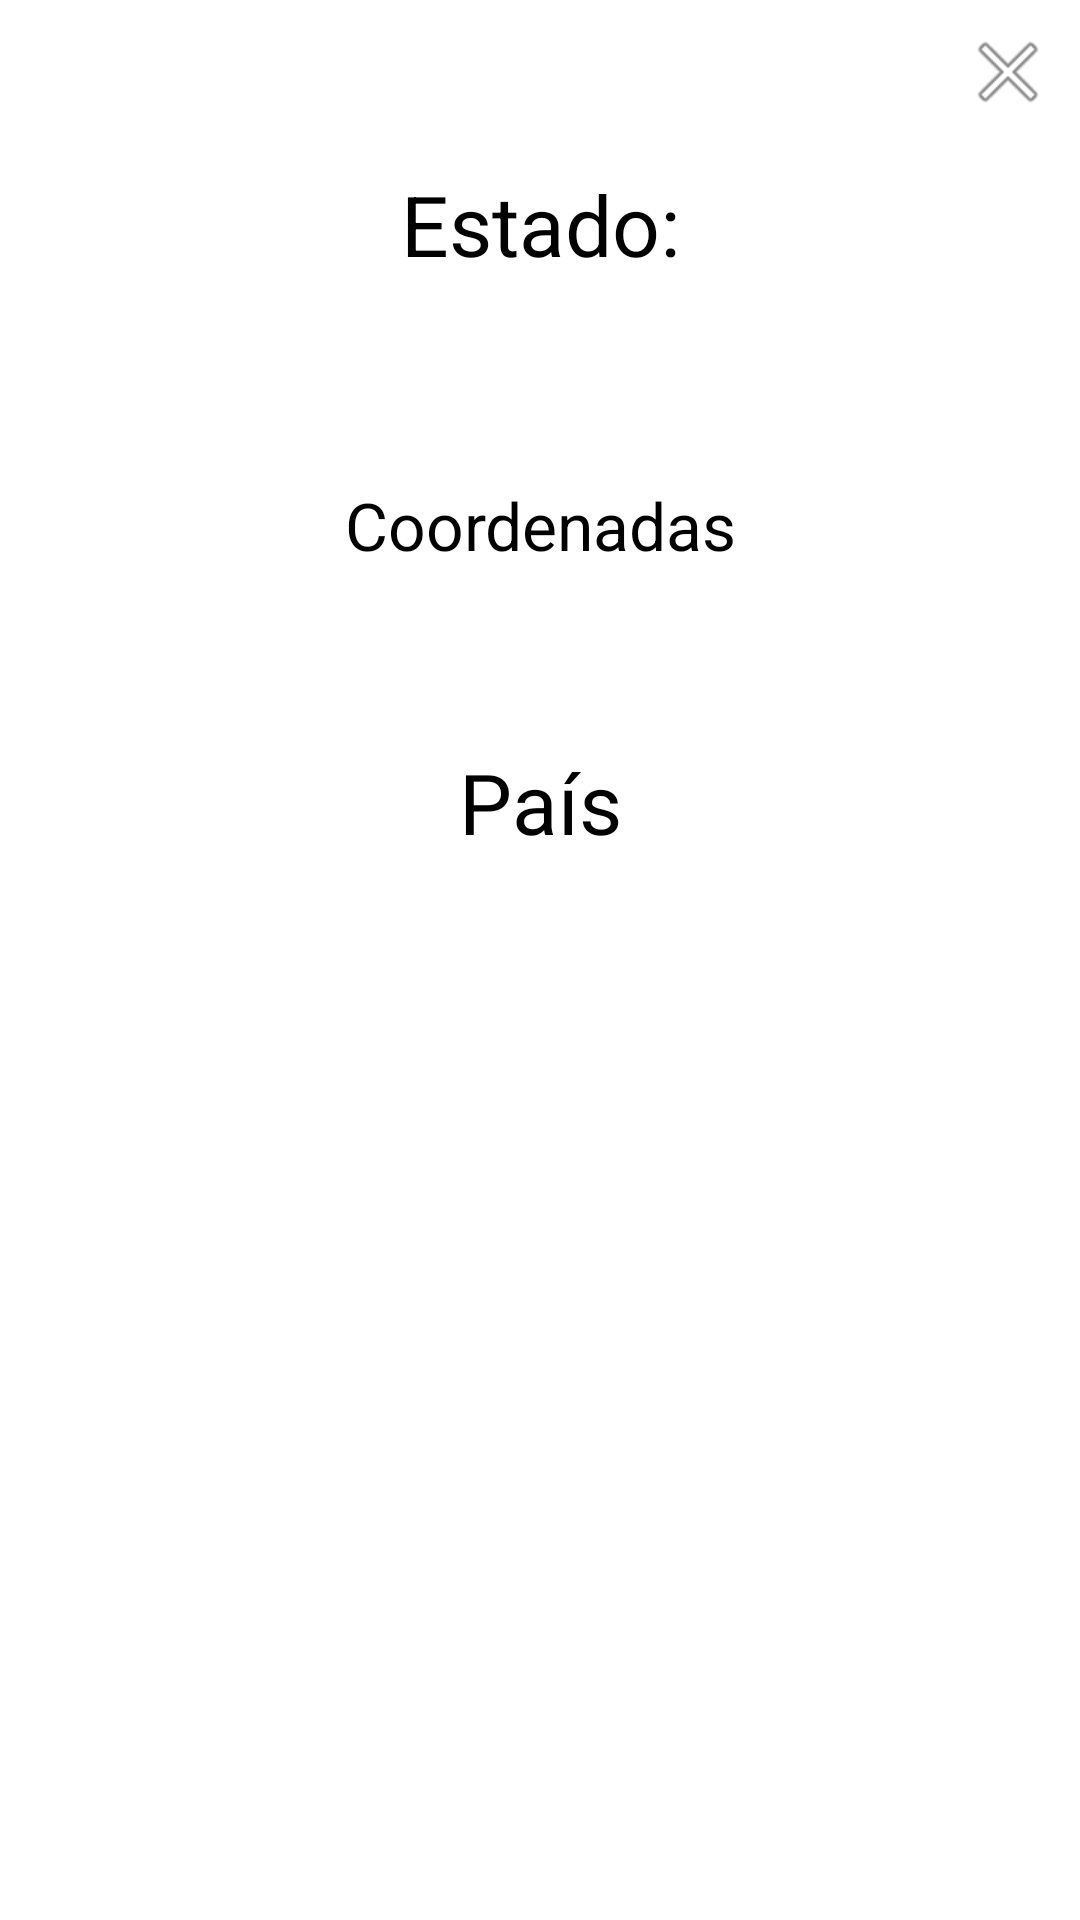

Named icons in this screenshot (1080x1920) and their centers, point (x, y):
close clear cancel: point (1008, 72)
